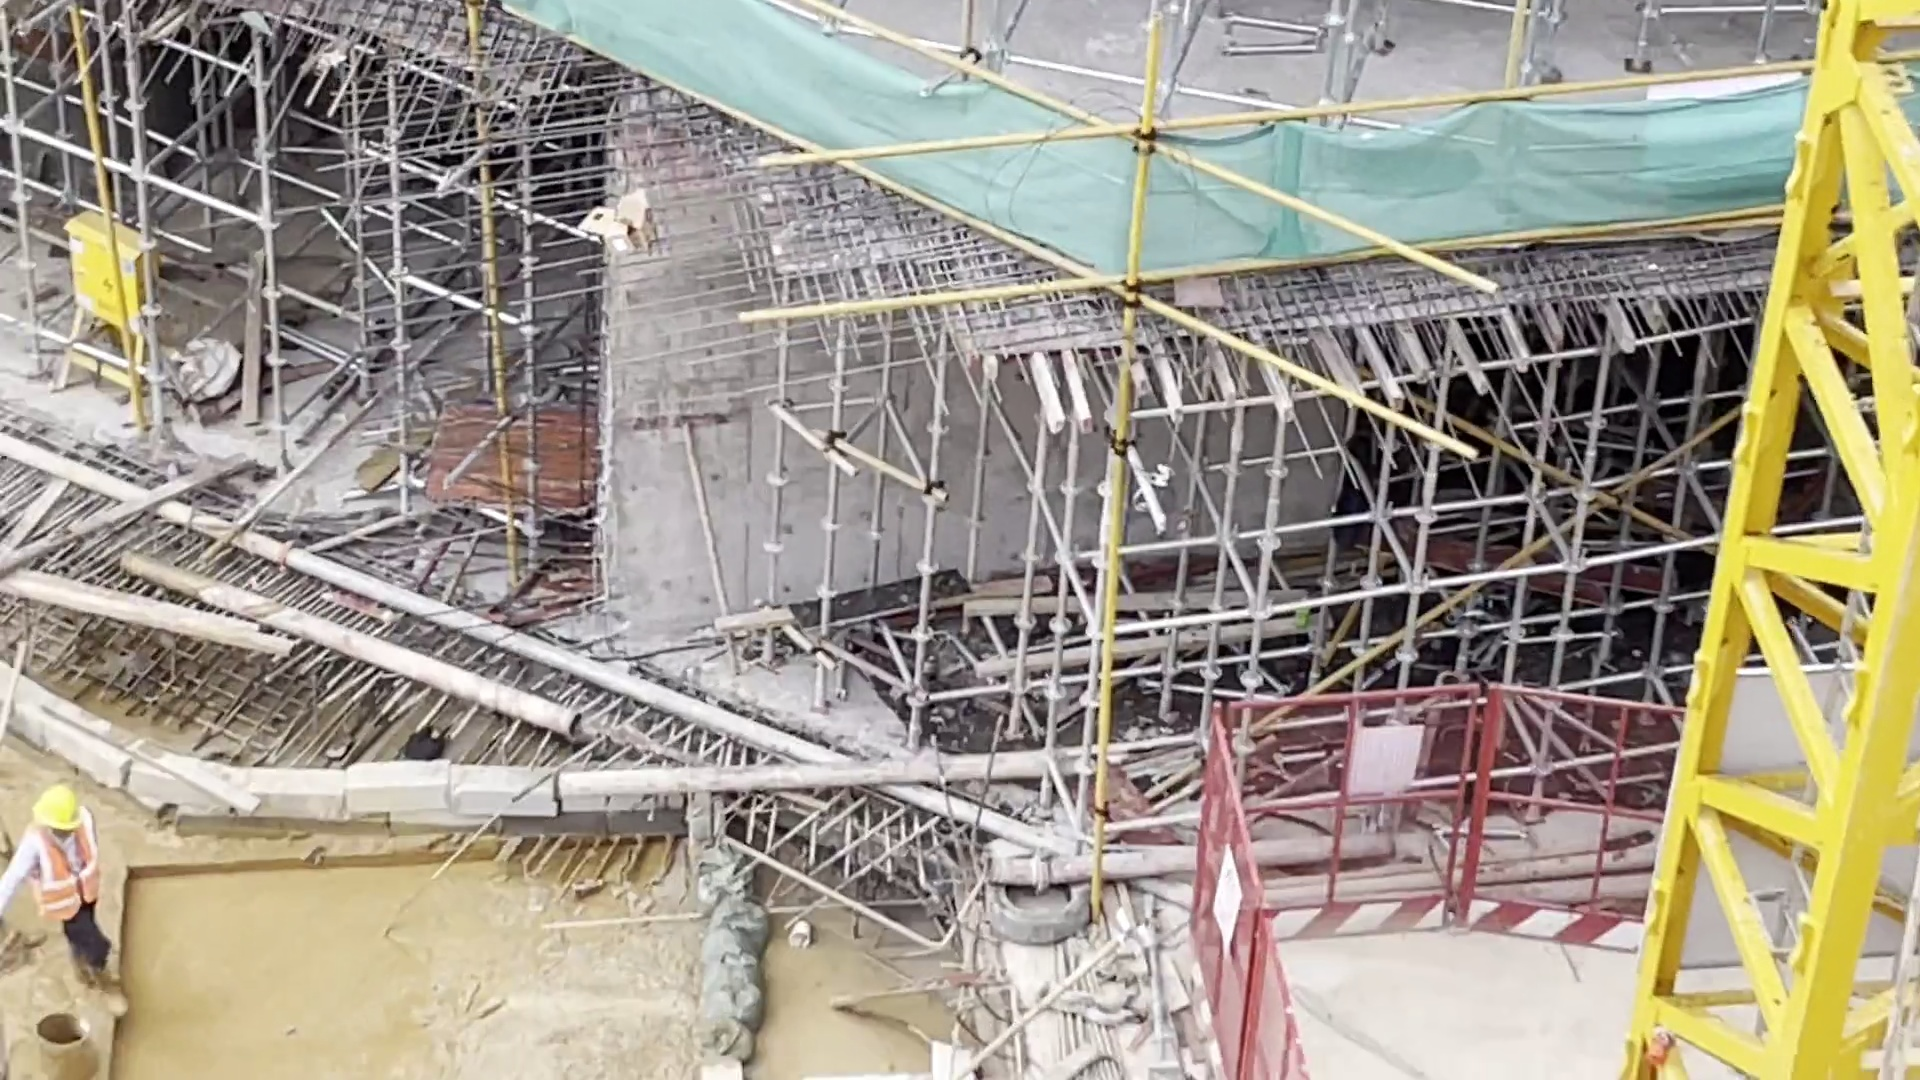ebox: (65, 212, 159, 330)
fence: (1214, 680, 1689, 949), (1169, 719, 1336, 1080)
helmet: (33, 780, 86, 830)
person: (29, 783, 103, 976)
vest: (30, 830, 101, 922)
